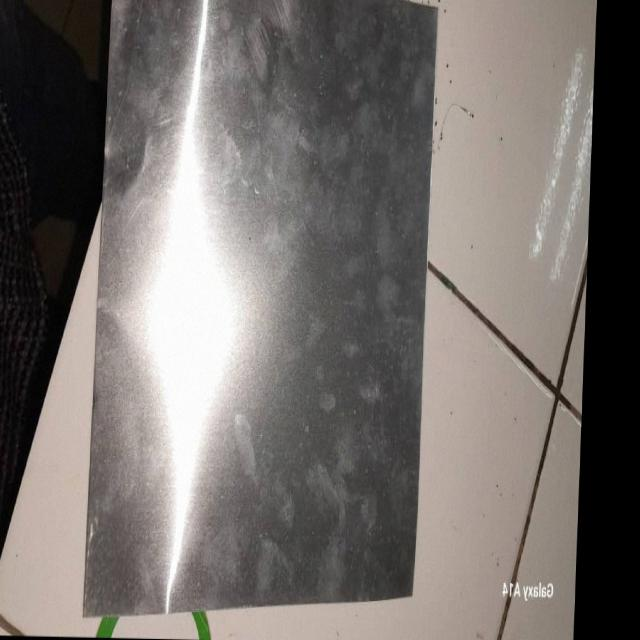TLC Plate: (82, 0, 444, 597)
